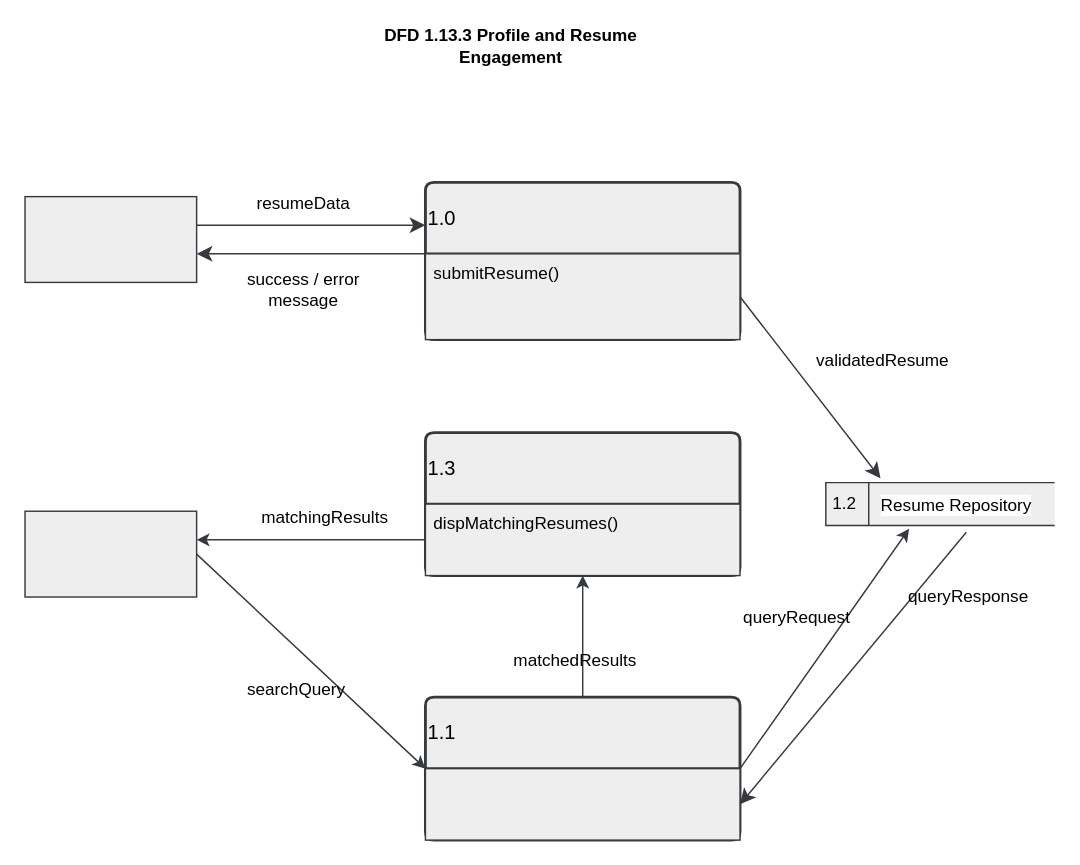
The diagram is 1080 pixels wide and 865 high, and some of its shapes have lost their labels. The centre of each missing label's shape, as x and y in pixels:
"searchAndMatchResumes()" goes at pixel 582 803.
"userCompanyRep" goes at pixel 110 553.
"userStudent" goes at pixel 110 238.
